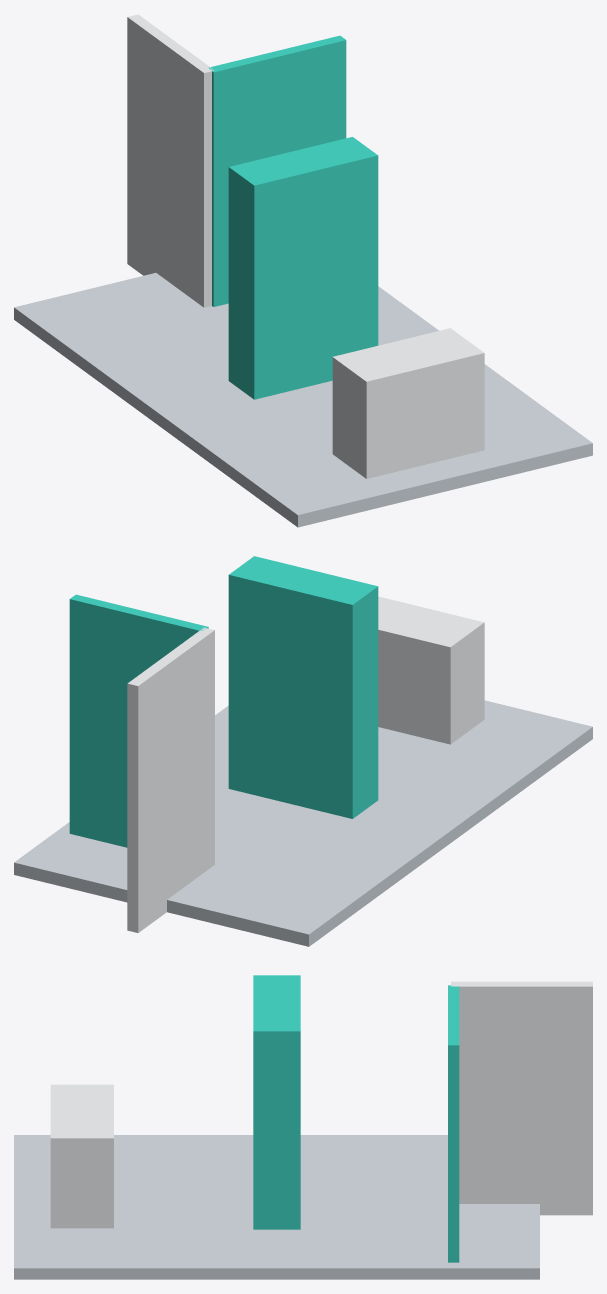
The picture shows the model from 3 angles, top to bottom: view 1: azimuth 30°, elevation 25°; view 2: azimuth 150°, elevation 25°; view 3: azimuth 270°, elevation 25°; orthographic projection. The views are drawn at different scales.
Parts seen in each view (by area): view 1: Exhibition Booth Concept; view 2: Exhibition Booth Concept; view 3: Exhibition Booth Concept.
Boxes of the visible parts, x1,y1,x2,y2 form: Exhibition Booth Concept: (14, 14, 592, 527); Exhibition Booth Concept: (14, 556, 592, 946); Exhibition Booth Concept: (14, 975, 592, 1279).
Bounding box in the file's own units: 3 × 2.4 × 5.51.
